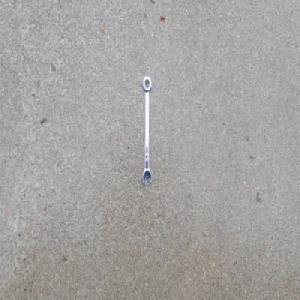Wrench: (142, 75, 152, 186)
